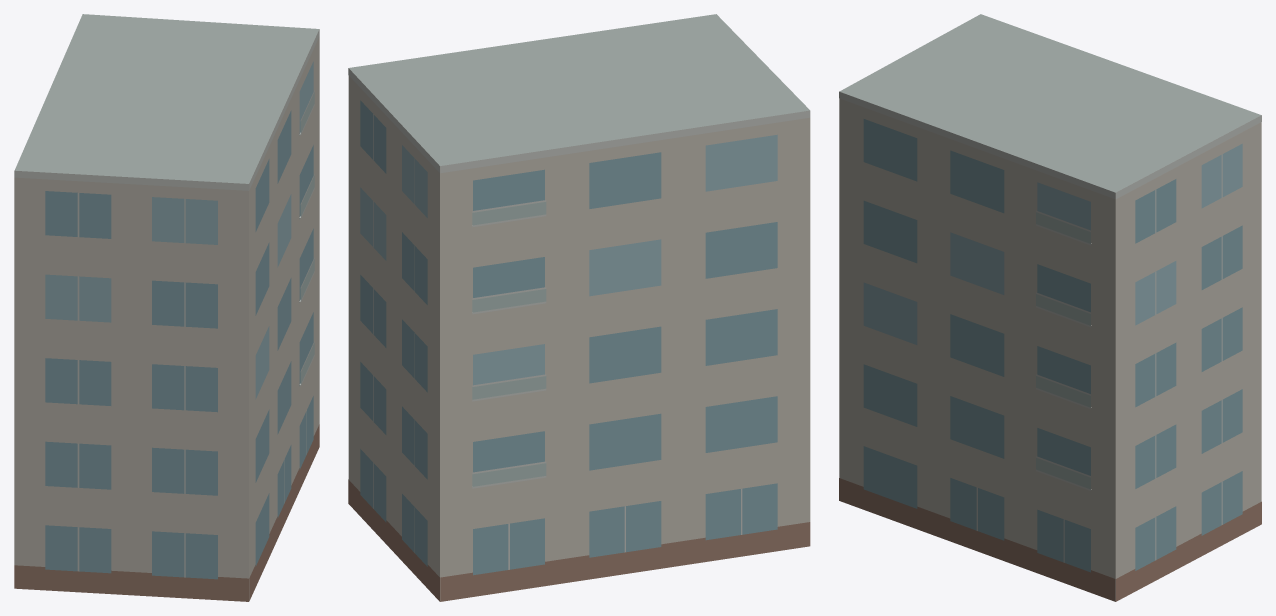
File: survey-upis-33044128.glb
The picture shows the model from 3 angles, left to right: view 1: azimuth 30°, elevation 25°; view 2: azimuth 150°, elevation 25°; view 3: azimuth 270°, elevation 25°; orthographic projection. The views are drawn at different scales.
Visible parts, largest first — view 1: survey-upis-33044128.tmp; view 2: survey-upis-33044128.tmp; view 3: survey-upis-33044128.tmp.
Part boxes in pixels (x1,y1,x2,y2): survey-upis-33044128.tmp: (14, 14, 319, 601); survey-upis-33044128.tmp: (348, 14, 810, 601); survey-upis-33044128.tmp: (839, 14, 1261, 601).
Bounding box in the file's own units: 13.87 × 14.8 × 13.86.
